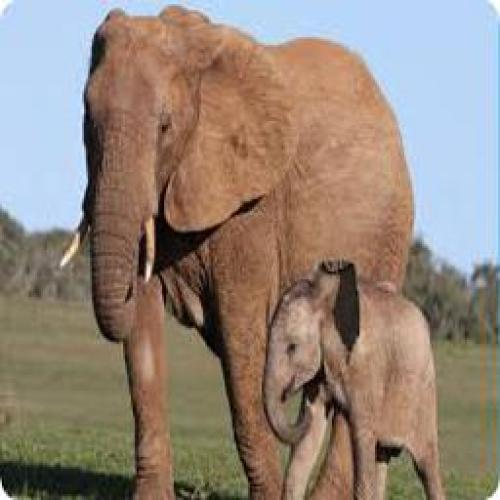african_elephant-endangered: (58, 6, 414, 500), (260, 256, 443, 500)
